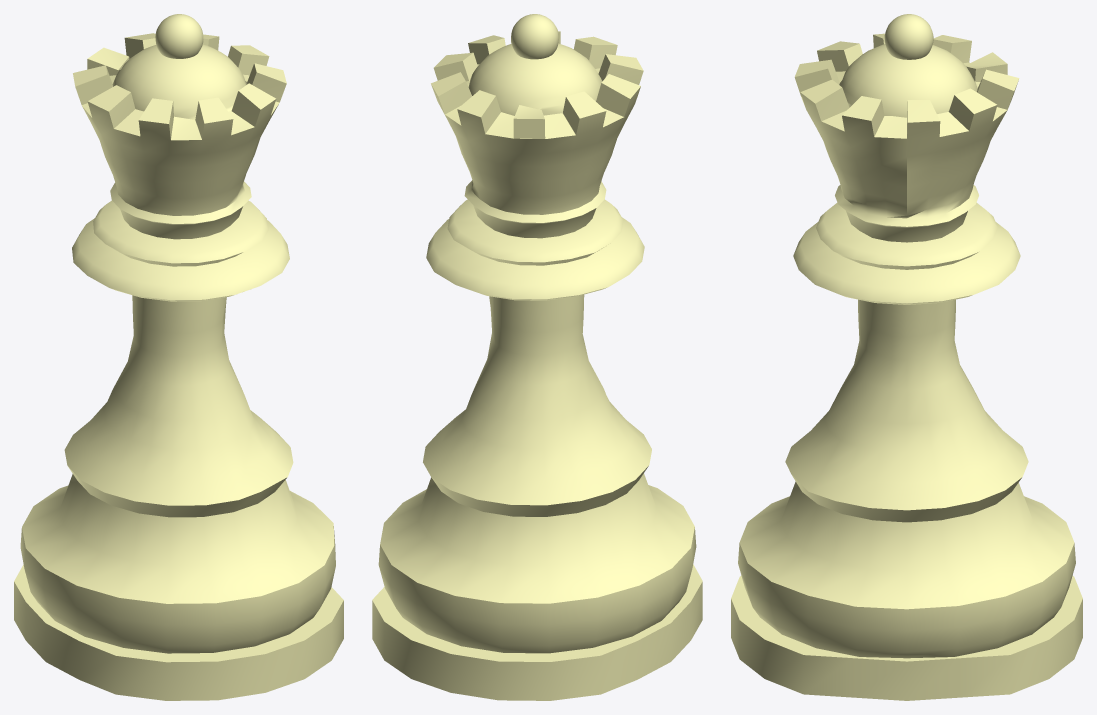
The picture shows the model from 3 angles, left to right: view 1: azimuth 30°, elevation 25°; view 2: azimuth 150°, elevation 25°; view 3: azimuth 270°, elevation 25°; orthographic projection.
Visible parts, largest first — view 1: White_Queen; view 2: White_Queen; view 3: White_Queen.
Part boxes in pixels (bbox=[...]): White_Queen: bbox=[14, 14, 343, 700]; White_Queen: bbox=[372, 14, 702, 700]; White_Queen: bbox=[731, 14, 1082, 700].
Size of the model in its own units: 1.86 by 4.01 by 2.05.
